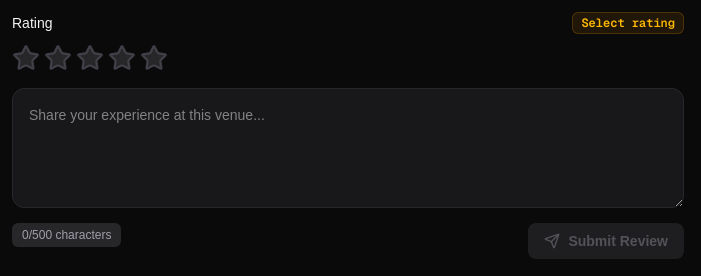
Scenario: VenueReviewForm Star Rating › Half-Star Increments (0.5 to 5.0) via Split Hit Regions › selects half star when clicking left half hit region
This screenshot has width=701, height=276.
Click the button with test id "star-5-left" at (147, 58), box [140,44,154,72]
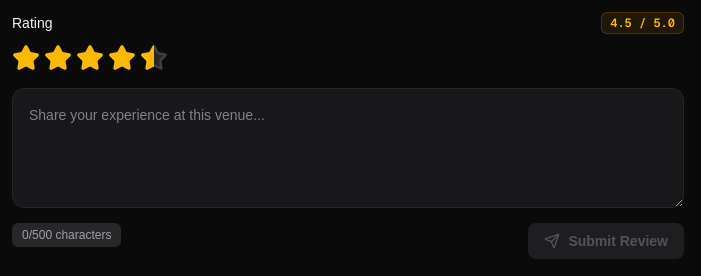
Check: the text with test id "rating-preview-text" reads "4.5 / 5.0", box [610,15,675,31]
Check: the element with test id "star-5-half" is shown, box [140,44,154,72]
